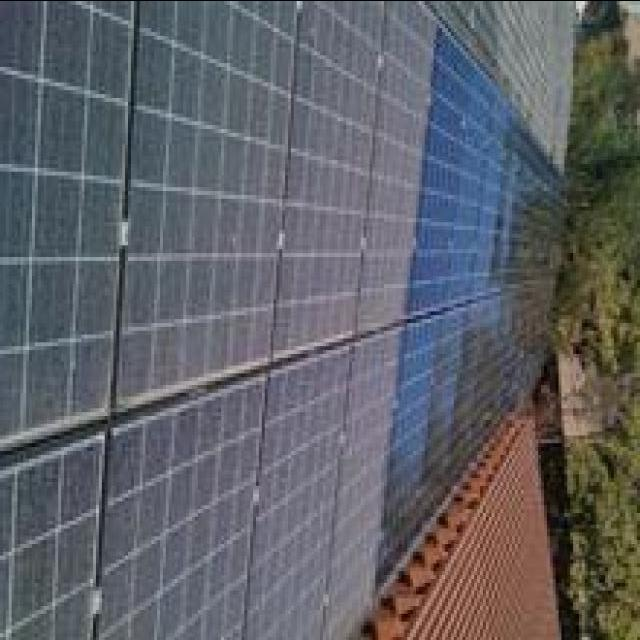soiled: (0, 0, 440, 636)
